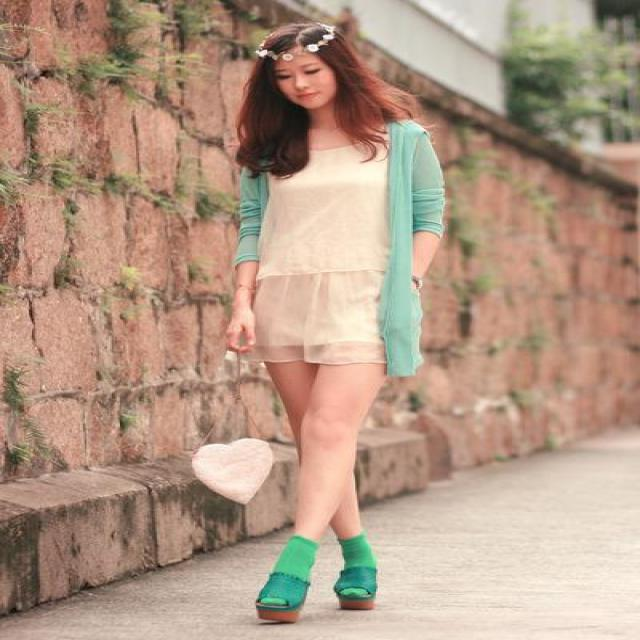dress: (257, 144, 388, 364)
jacket: (232, 118, 446, 376)
shoe: (256, 566, 376, 624)
